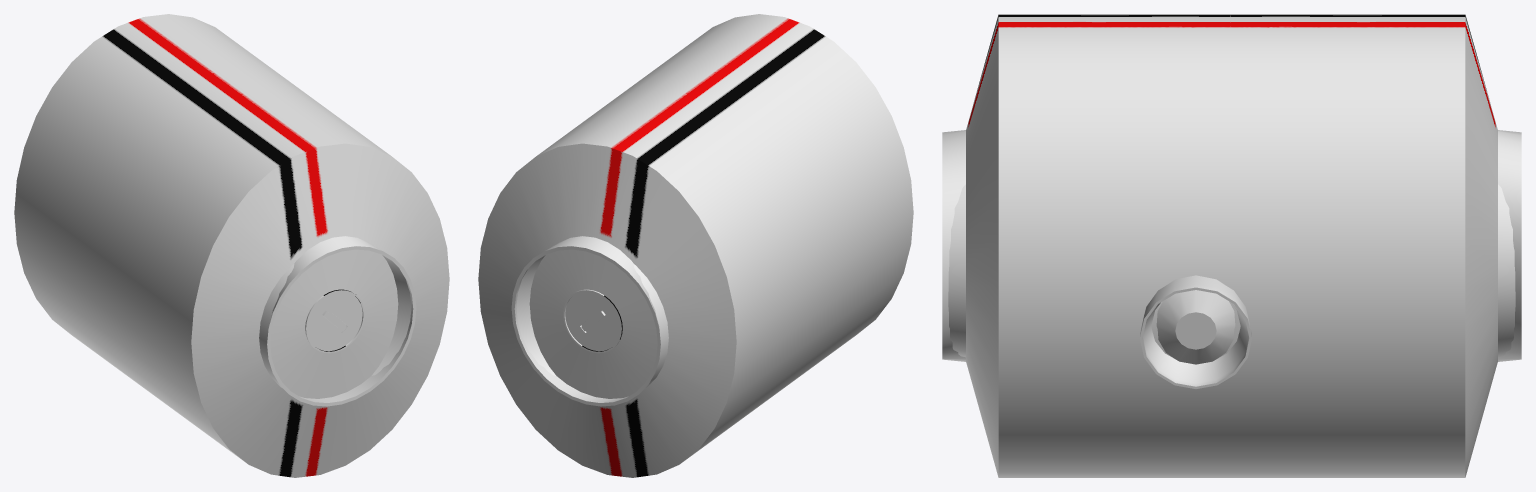
Rendered from Storage.glb.
3 renders of one model, left to right at view 1: azimuth 30°, elevation 25°; view 2: azimuth 150°, elevation 25°; view 3: azimuth 270°, elevation 25°, orthographic. The views are drawn at different scales.
Visible parts, largest first — view 1: storage outer.001; view 2: storage outer.001; view 3: storage outer.001.
Part boxes in pixels (x1,y1,x2,y2): storage outer.001: (14, 14, 449, 477); storage outer.001: (478, 14, 913, 477); storage outer.001: (942, 14, 1521, 477).
Size of the model in its own units: 2.21 by 2.5 by 3.03.
Materials: 1 (1 with a texture image).
